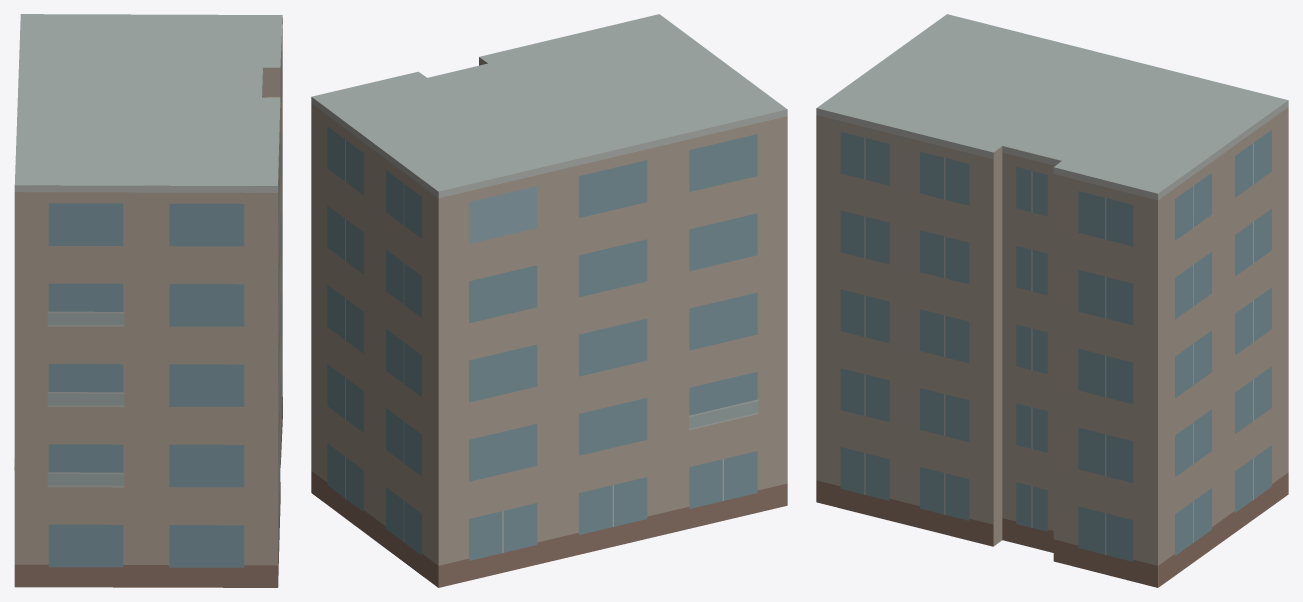
The model's file is survey-upis-32709492.glb.
The picture shows the model from 3 angles, left to right: view 1: azimuth 30°, elevation 25°; view 2: azimuth 150°, elevation 25°; view 3: azimuth 270°, elevation 25°; orthographic projection.
Parts seen in each view (by area): view 1: survey-upis-32709492.tmp; view 2: survey-upis-32709492.tmp; view 3: survey-upis-32709492.tmp.
Part boxes in pixels (left/top/right/bottom): survey-upis-32709492.tmp: left=14, top=14, right=282, bottom=587; survey-upis-32709492.tmp: left=311, top=14, right=787, bottom=587; survey-upis-32709492.tmp: left=816, top=14, right=1288, bottom=587.
Bounding box in the file's own units: 14.09 × 14.4 × 15.64.
